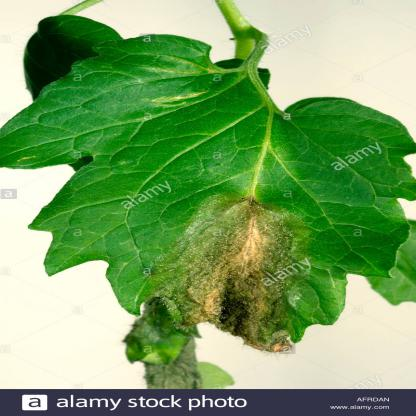Tomato mold leaf: (0, 34, 411, 365)
